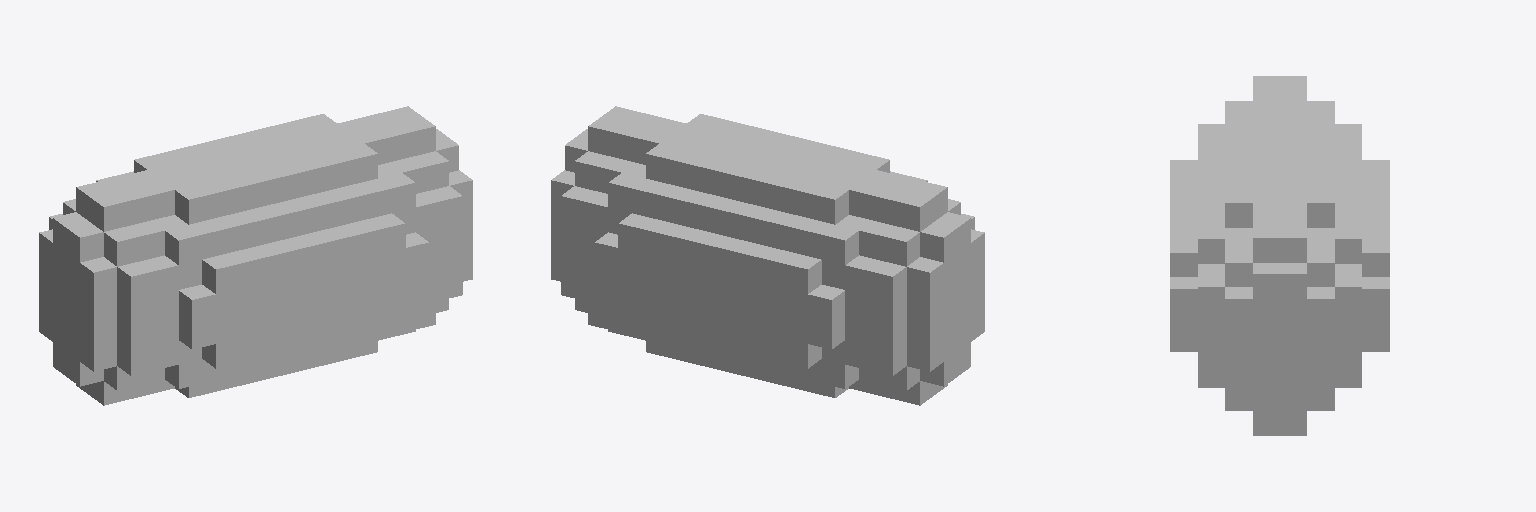
The model's file is tnt barrel without lunt.obj.
3 views of the same model, side by side, from view 1: azimuth 30°, elevation 25°; view 2: azimuth 150°, elevation 25°; view 3: azimuth 270°, elevation 25° (orthographic).
Parts seen in each view (by area): view 1: object 1; view 2: object 1; view 3: object 1.
Part boxes in pixels (x1,y1,x2,y2): object 1: (39,106,472,405); object 1: (551,106,984,405); object 1: (1170,76,1389,435).
Size of the model in its own units: 1.6 by 0.8 by 0.8.